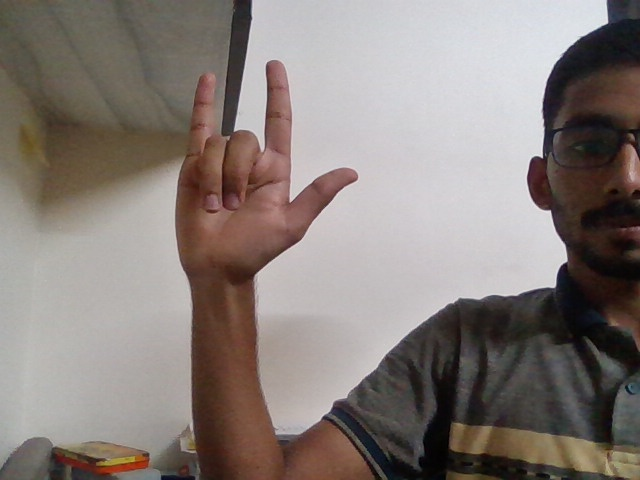Enjoy: (148, 48, 380, 306)
